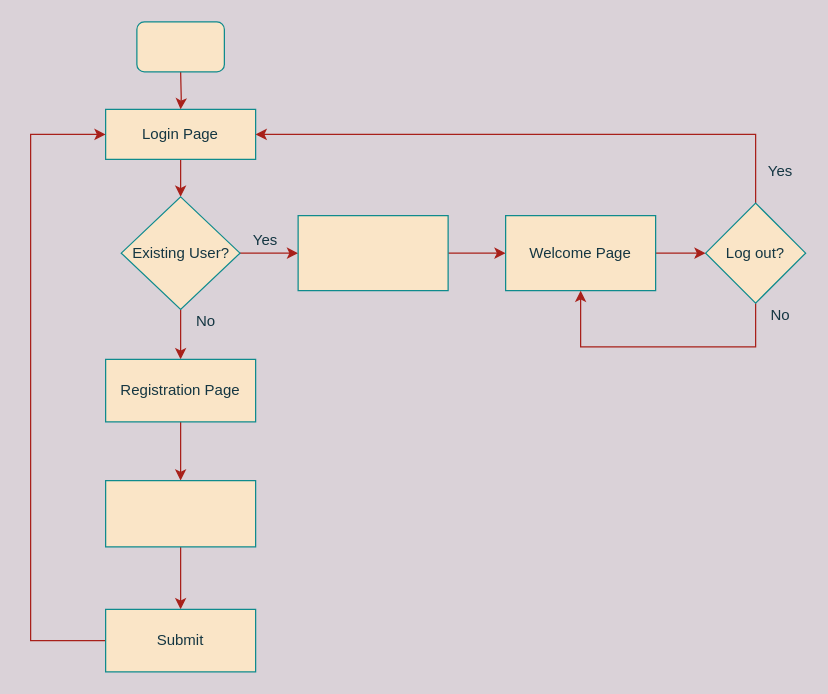
Image size: 828x694. Some labels were removed from this diagram. Here are the shapes that lost their labels. From the top down, the centre of each, then its label:
the point at 180,46: START
the point at 372,252: Enter Credentials
the point at 180,513: Enter Details
